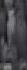cylinder: (1, 1, 27, 70)
